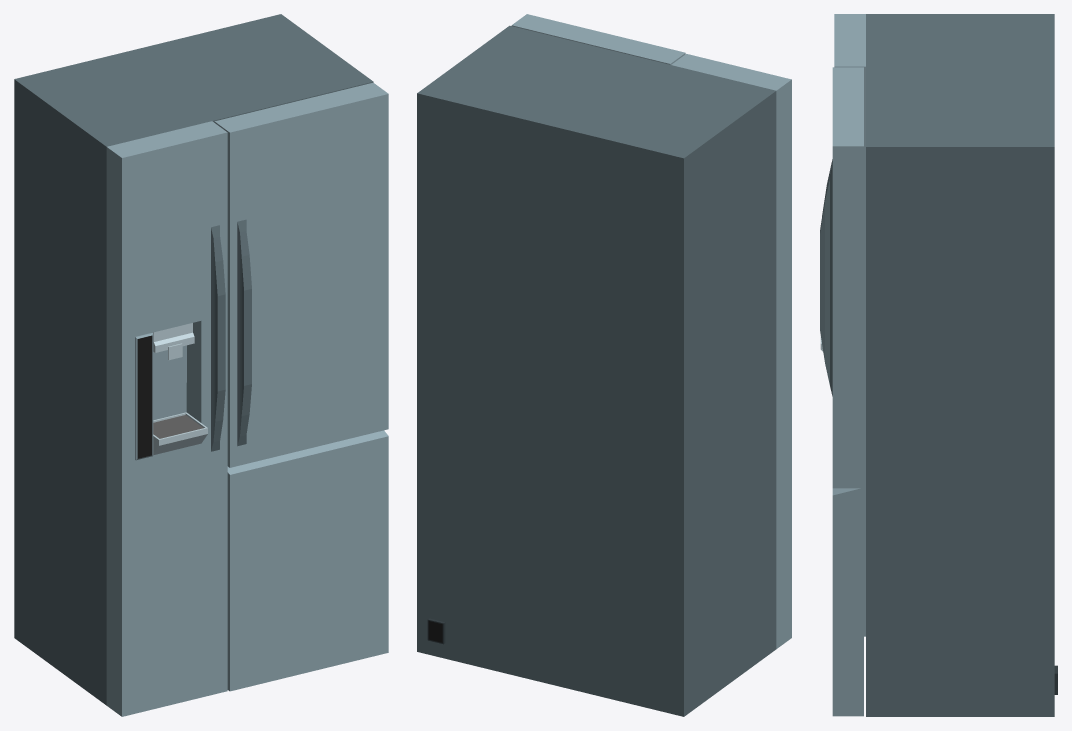
Rendered from KA-F1000_FridgeSBS_V1.fbx.
3 renders of one model, left to right at view 1: azimuth 30°, elevation 25°; view 2: azimuth 150°, elevation 25°; view 3: azimuth 270°, elevation 25°, orthographic. The views are drawn at different scales.
Parts seen in each view (by area): view 1: KA-F1000_FridgeSBS_V1, KA-F1000_FridgeSBS_V1_FrezzerDoor, KA-F1000_FridgeSBS_V1_DoorInDoor, KA-F1000_FridgeSBS_V1_Door; view 2: KA-F1000_FridgeSBS_V1, KA-F1000_FridgeSBS_V1_FrezzerDoor, KA-F1000_FridgeSBS_V1_DoorInDoor; view 3: KA-F1000_FridgeSBS_V1, KA-F1000_FridgeSBS_V1_DoorInDoor, KA-F1000_FridgeSBS_V1_Door, KA-F1000_FridgeSBS_V1_FrezzerDoor.
Boxes of the visible parts, x1,y1,x2,y2 form: KA-F1000_FridgeSBS_V1: (14, 14, 373, 705); KA-F1000_FridgeSBS_V1_FrezzerDoor: (106, 121, 227, 716); KA-F1000_FridgeSBS_V1_DoorInDoor: (216, 84, 388, 467); KA-F1000_FridgeSBS_V1_Door: (214, 82, 388, 691); KA-F1000_FridgeSBS_V1: (417, 25, 776, 716); KA-F1000_FridgeSBS_V1_FrezzerDoor: (671, 54, 791, 648); KA-F1000_FridgeSBS_V1_DoorInDoor: (513, 14, 685, 63); KA-F1000_FridgeSBS_V1: (866, 14, 1057, 716); KA-F1000_FridgeSBS_V1_DoorInDoor: (820, 67, 860, 488); KA-F1000_FridgeSBS_V1_Door: (832, 67, 863, 716); KA-F1000_FridgeSBS_V1_FrezzerDoor: (820, 14, 865, 636).
Size of the model in its own units: 100 by 200 by 75.61.
